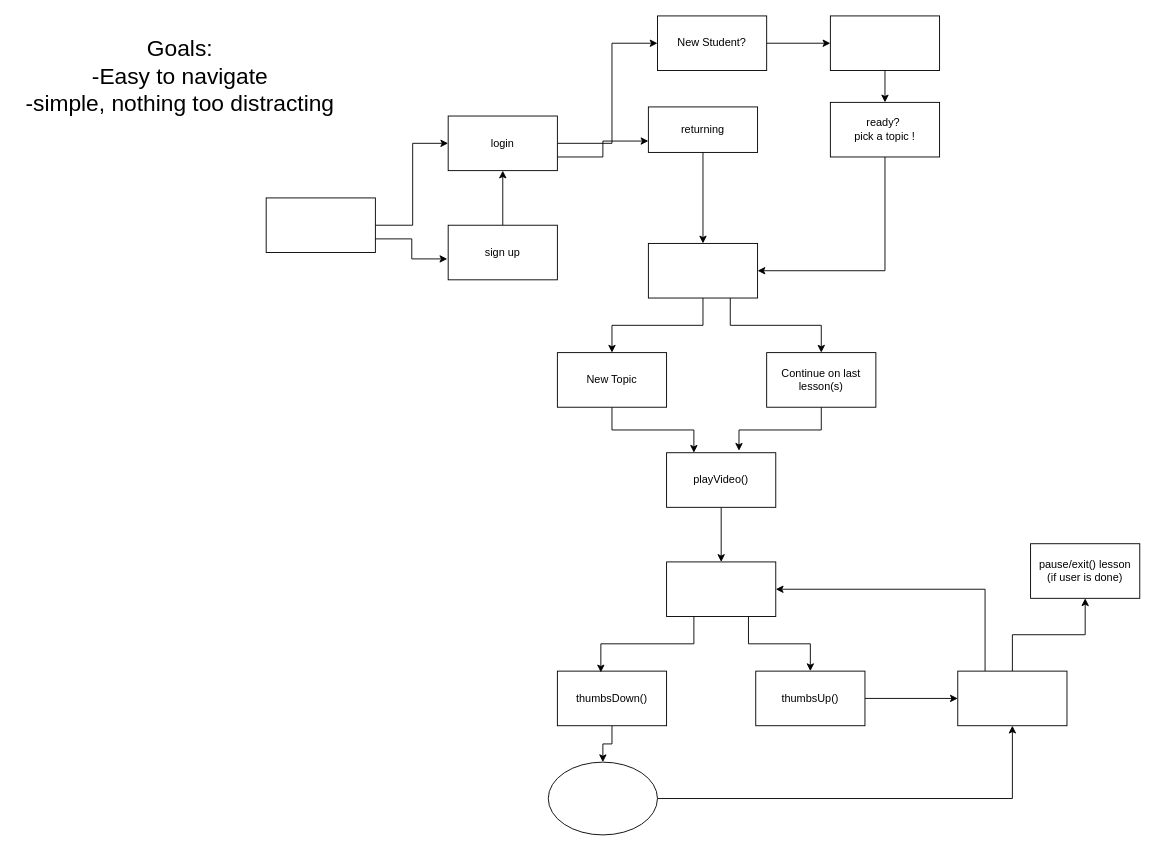
The diagram is 1156 pixels wide and 851 high, and some of its shapes have lost their labels. The shapes that lost their labels are listed below. From the top down, each one's centre as x and y in pixels, then its label:
At (884,43): "Getting started (Tutorial/Intro video)".
At (320,225): "Home Page".
At (702,270): "show topics".
At (721,589): "poll()".
At (1012,698): "resumeLesson()".
At (602,798): "playRandomVideo()".
